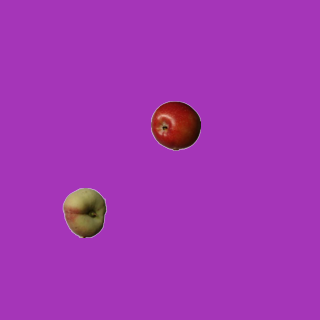Apple Braeburn: (150, 100, 200, 150)
Peach Flat: (59, 187, 109, 237)
